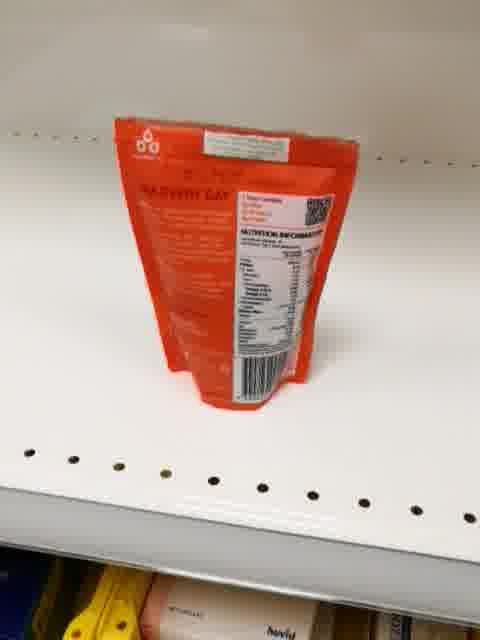whitechia: (111, 112, 360, 412)
